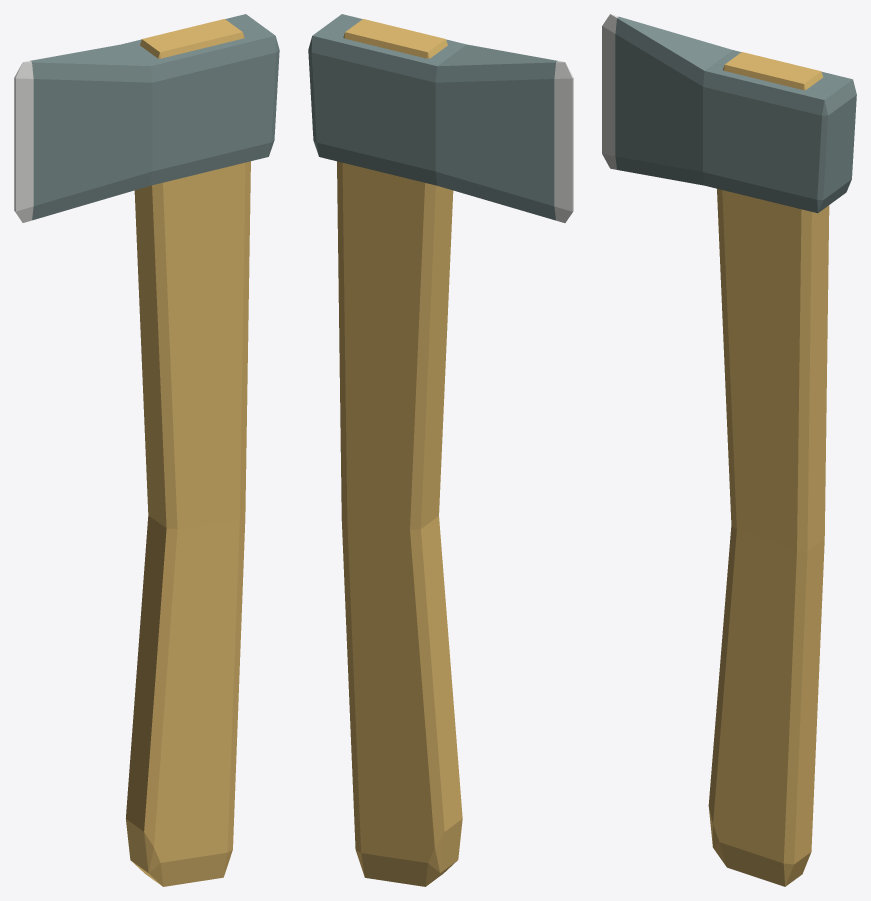
The model's file is Axe.fbx.
3 renders of one model, left to right at view 1: azimuth 30°, elevation 25°; view 2: azimuth 150°, elevation 25°; view 3: azimuth 330°, elevation 25°, orthographic. The views are drawn at different scales.
Parts seen in each view (by area): view 1: Shaft, Head; view 2: Shaft, Head; view 3: Shaft, Head.
Boxes of the visible parts, left/top/right/bottom form: Shaft: left=125, top=19, right=250, bottom=886; Head: left=14, top=14, right=279, bottom=222; Shaft: left=337, top=19, right=462, bottom=886; Head: left=308, top=14, right=573, bottom=222; Shaft: left=708, top=52, right=829, bottom=886; Head: left=602, top=14, right=856, bottom=213.
Size of the model in its own units: 170 by 558 by 38.88.
